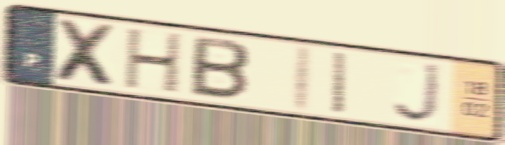B: (187, 33, 253, 103)
H: (120, 26, 186, 97)
I: (288, 42, 316, 116), (330, 48, 351, 118)
J: (391, 61, 444, 126)
X: (52, 15, 122, 91)
